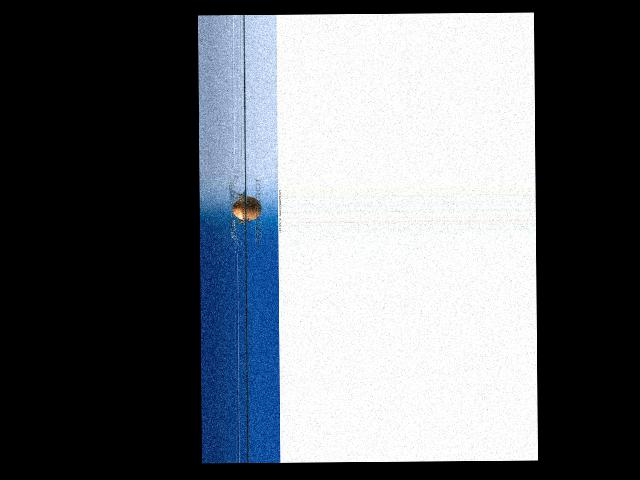egg: (232, 196, 261, 220)
